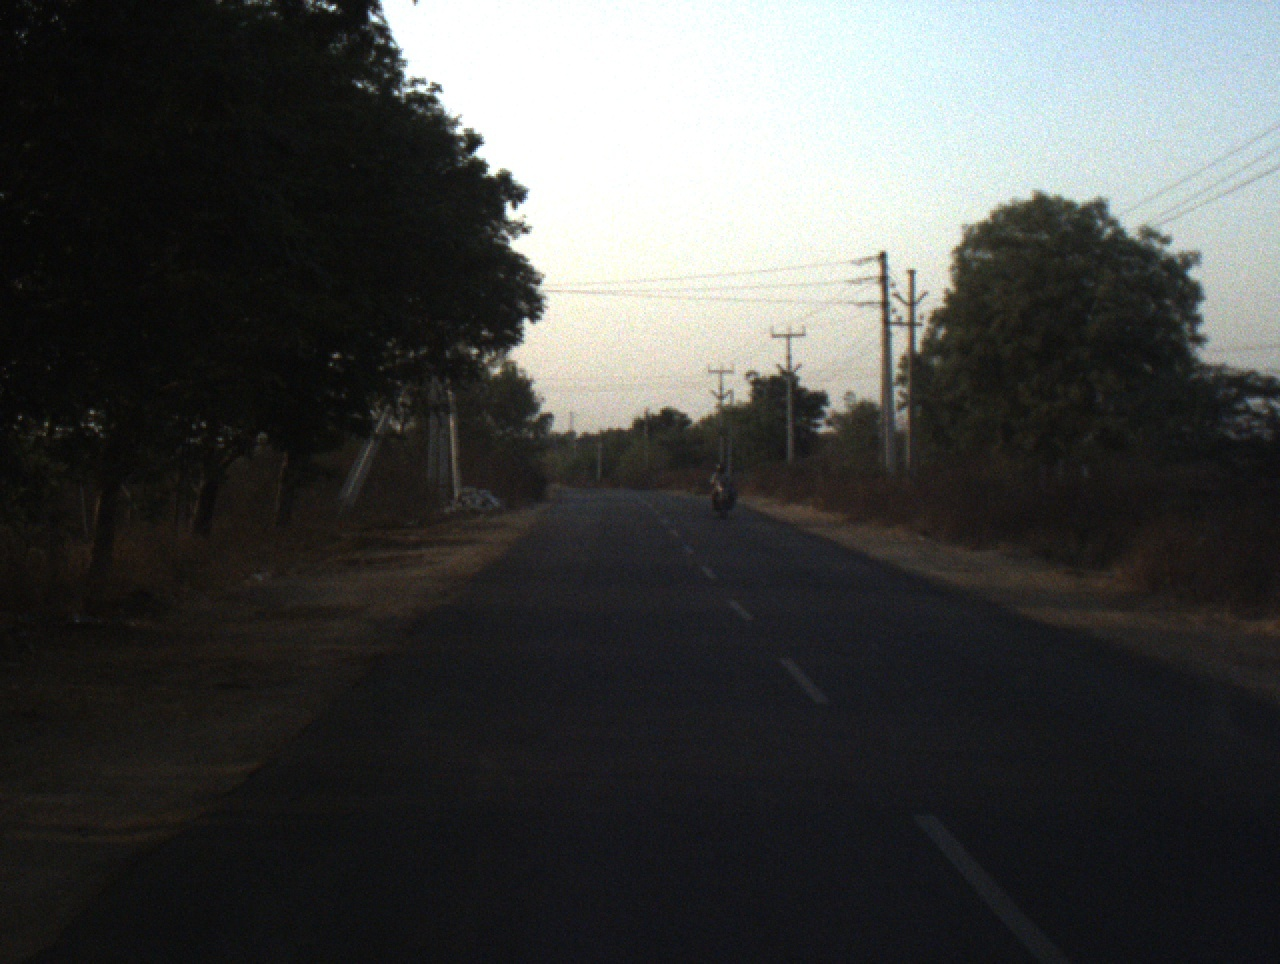motorcycle: (710, 478, 741, 521)
rider: (707, 461, 735, 513)
